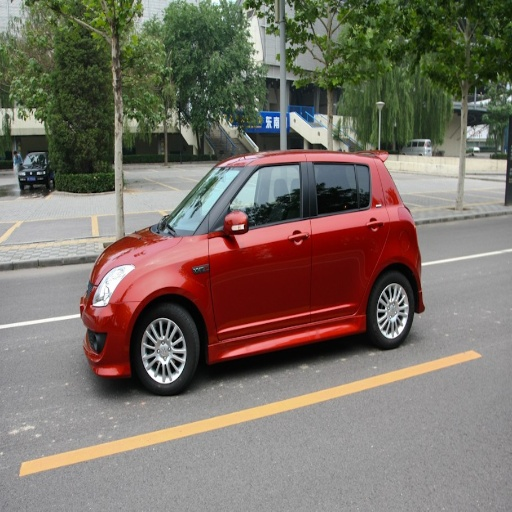front_left_door: (210, 157, 311, 339)
